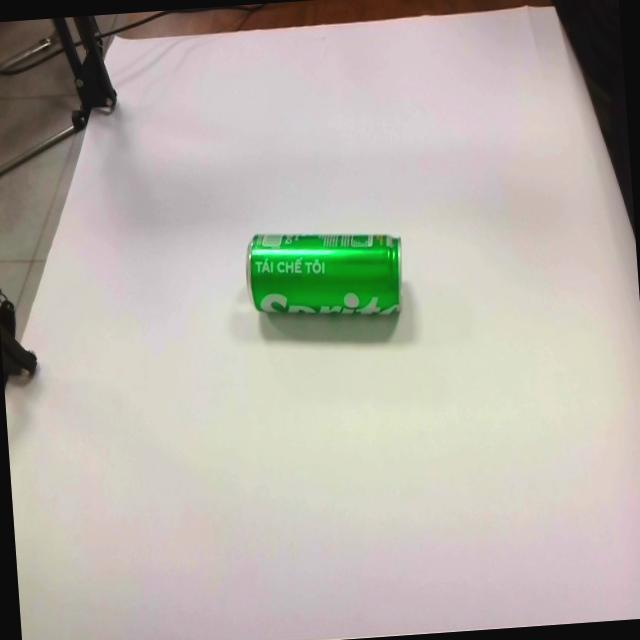debris: (242, 223, 408, 352)
